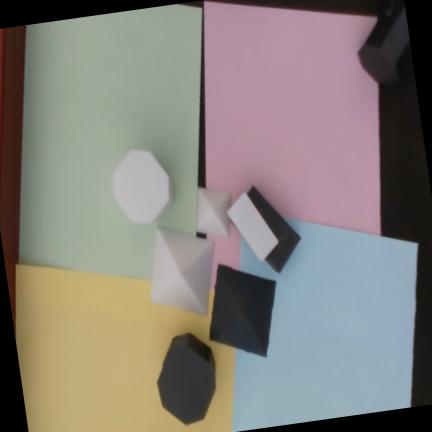Paralelepipedo: (246, 184, 301, 273), (226, 191, 279, 262)
Piramide: (209, 263, 276, 357), (150, 226, 214, 316), (196, 186, 231, 236)
Prisma_hexagonal: (157, 332, 216, 425), (111, 148, 174, 225), (357, 0, 412, 85)
